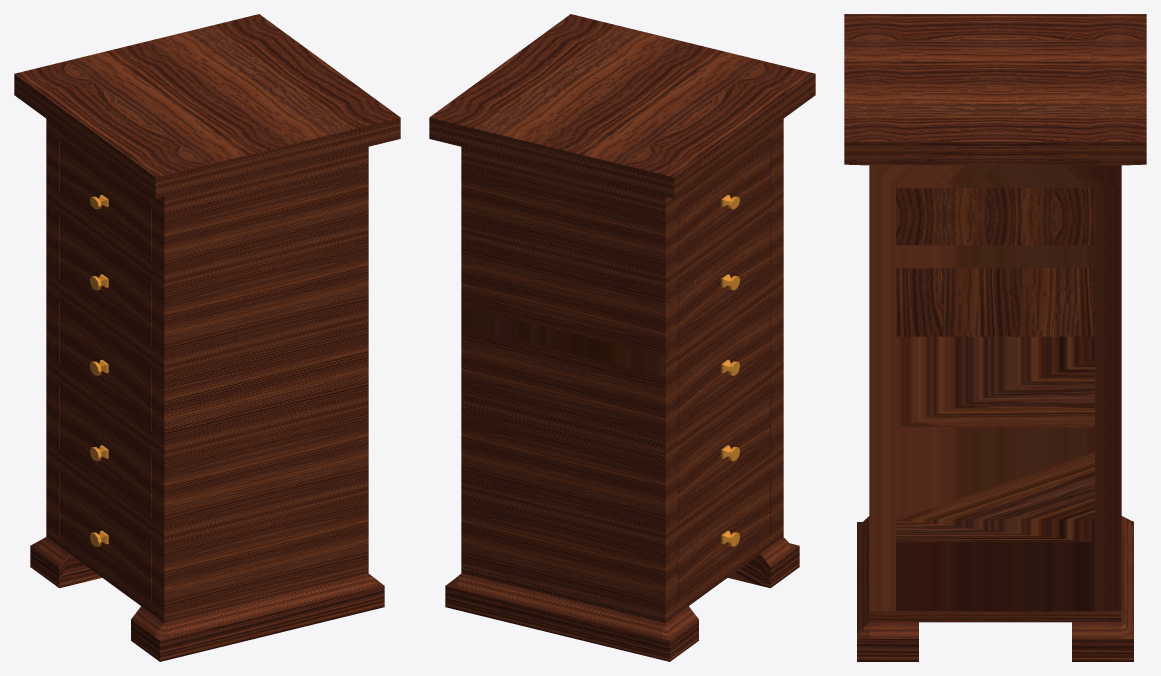
Rendered from Gaveteiro.fbx.
3 views of the same model, side by side, from view 1: azimuth 30°, elevation 25°; view 2: azimuth 150°, elevation 25°; view 3: azimuth 270°, elevation 25° (orthographic). The views are drawn at different scales.
Parts seen in each view (by area): view 1: Cube.008, Cube.011, Cube.009, Cube.010, Cube.012, Cube.013; view 2: Cube.008, Cube.011, Cube.009, Cube.010, Cube.012, Cube.013; view 3: Cube.008.
Part boxes in pixels (left/top/right/bottom): Cube.008: left=14, top=14, right=400, bottom=661; Cube.011: left=59, top=472, right=151, bottom=602; Cube.009: left=59, top=301, right=151, bottom=431; Cube.010: left=59, top=386, right=151, bottom=517; Cube.012: left=59, top=215, right=151, bottom=346; Cube.013: left=59, top=141, right=151, bottom=260; Cube.008: left=429, top=14, right=815, bottom=661; Cube.011: left=678, top=472, right=770, bottom=602; Cube.009: left=678, top=301, right=770, bottom=431; Cube.010: left=678, top=386, right=770, bottom=517; Cube.012: left=678, top=215, right=770, bottom=346; Cube.013: left=678, top=141, right=770, bottom=260; Cube.008: left=844, top=14, right=1146, bottom=661.
Size of the model in its own units: 240 by 460 by 240.
